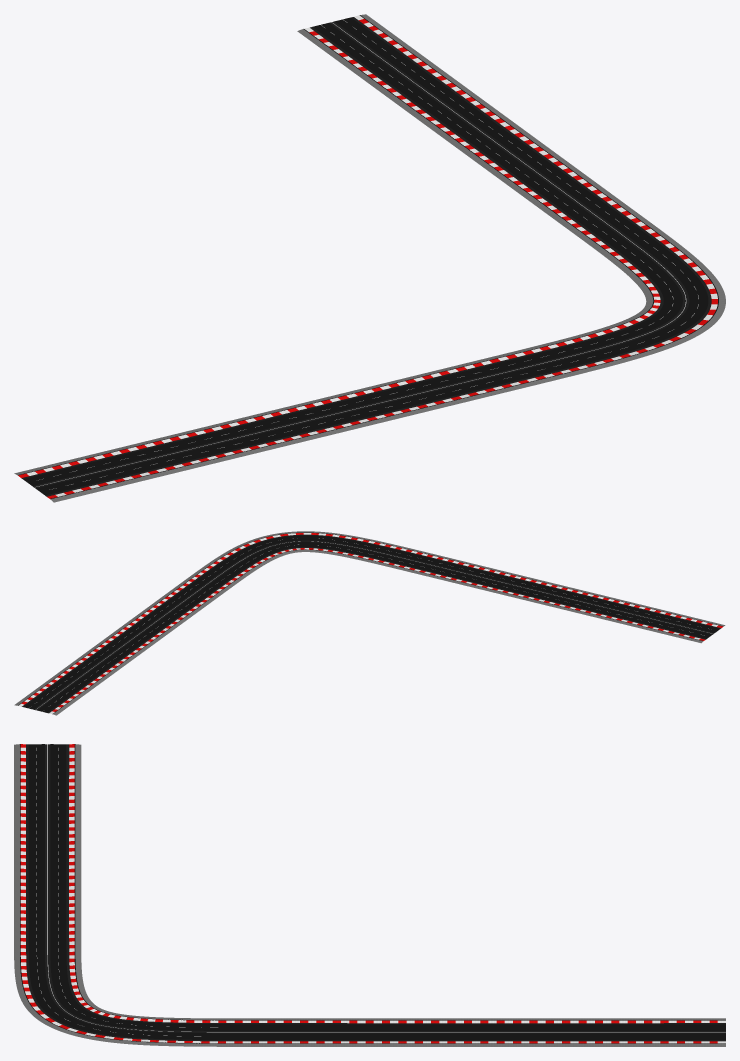
3 views of the same model, one above another, from view 1: azimuth 30°, elevation 25°; view 2: azimuth 150°, elevation 25°; view 3: azimuth 270°, elevation 25° (orthographic). The views are drawn at different scales.
Visible parts, largest first — view 1: Grid; view 2: Grid; view 3: Grid.
Boxes of the visible parts, x1,y1,x2,y2 form: Grid: [14, 14, 725, 502]; Grid: [14, 531, 725, 715]; Grid: [14, 744, 725, 1046].
Bounding box in the file's own units: 266 × 0.31 × 265.
